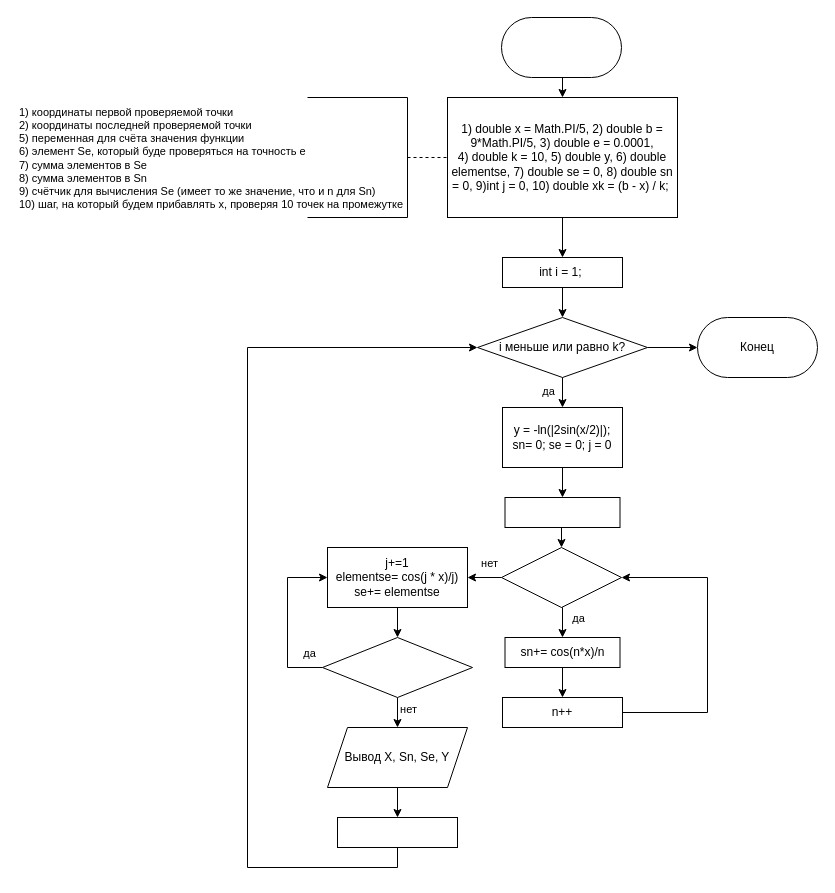
The diagram is 835 pixels wide and 893 high, and some of its shapes have lost their labels. Each missing label, with the centre of its shape:
elementse > e?: (x=397, y=667)
n = 1;: (x=562, y=512)
n меньше 40?: (x=561, y=577)
x+=xk; i++: (x=397, y=832)
Начало: (x=561, y=47)
